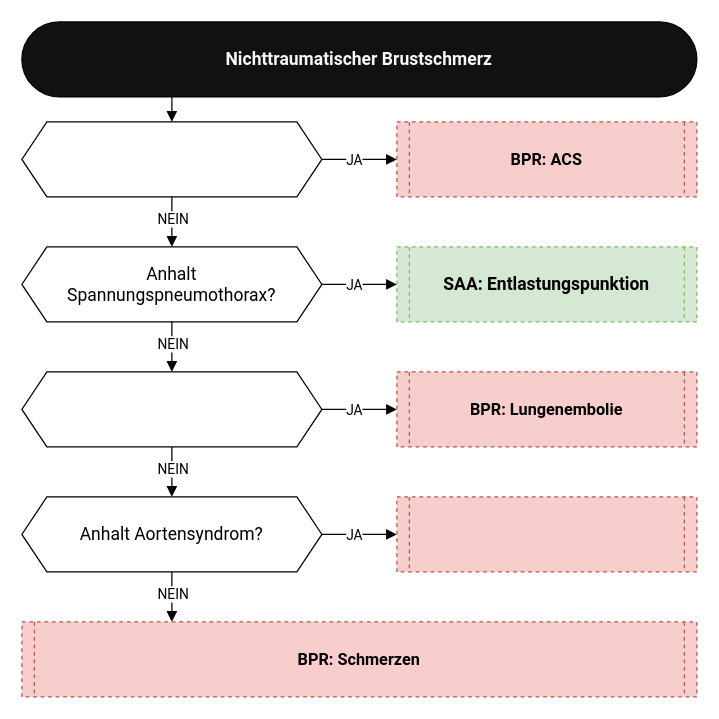
The diagram is 719 pixels wide and 719 high, and some of its shapes have lost their labels. Here are the shapes that lost their labels. From the top down, the centre of each, then its label:
the point at 171,159: Anhalt ACS?
the point at 171,409: Anhalt Lungenembolie?
the point at 546,534: BPR: Aortensyndrom
